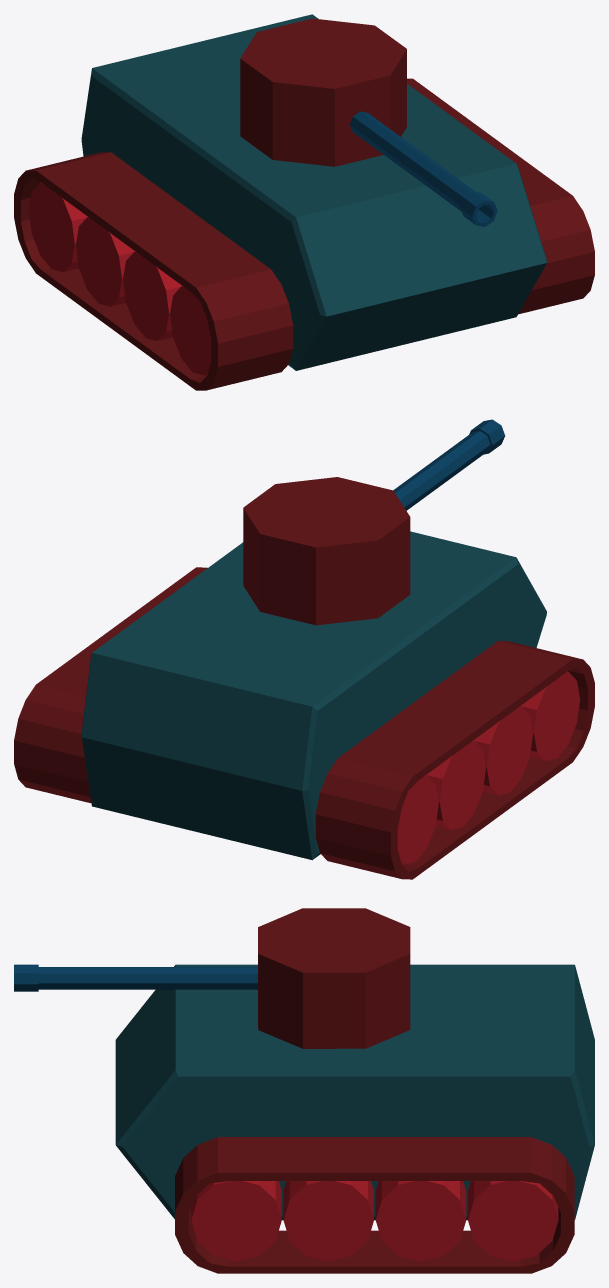
The model's file is Tank_1.obj.
3 renders of one model, top to bottom at view 1: azimuth 30°, elevation 25°; view 2: azimuth 150°, elevation 25°; view 3: azimuth 270°, elevation 25°, orthographic. The views are drawn at different scales.
Visible parts, largest first — view 1: Body, Track_L, Turret, Track_R, Gun, Wheel_L_2, Wheel_L_4, Wheel_L_1, Wheel_L_3; view 2: Body, Track_L, Turret, Track_R, Wheel_L_3, Wheel_L_4, Wheel_L_1, Gun, Wheel_L_2; view 3: Body, Track_R, Turret, Wheel_R_4_Wheel_4, Wheel_R_1_Wheel_1, Wheel_R_3_Wheel_3, Wheel_R_2_Wheel_2, Gun.
Boxes of the visible parts, box(x1,y1,x2,y2) form: Body: box(81, 14, 546, 370); Track_L: box(14, 152, 293, 390); Turret: box(240, 18, 406, 166); Track_R: box(407, 78, 594, 314); Gun: box(350, 111, 497, 226); Wheel_L_2: box(28, 182, 87, 272); Wheel_L_4: box(76, 217, 135, 306); Wheel_L_1: box(123, 251, 181, 340); Wheel_L_3: box(170, 286, 211, 375); Body: box(81, 531, 546, 860); Track_L: box(315, 641, 594, 879); Turret: box(243, 477, 410, 625); Track_R: box(14, 567, 207, 803); Wheel_L_3: box(521, 671, 579, 760); Wheel_L_4: box(426, 740, 485, 829); Wheel_L_1: box(473, 706, 532, 795); Gun: box(393, 419, 505, 510); Wheel_L_2: box(397, 775, 438, 864); Body: box(115, 964, 594, 1220); Track_R: box(175, 1137, 574, 1273); Turret: box(258, 908, 410, 1048); Wheel_R_4_Wheel_4: box(375, 1181, 466, 1261); Wheel_R_1_Wheel_1: box(283, 1181, 373, 1261); Wheel_R_3_Wheel_3: box(191, 1181, 281, 1261); Wheel_R_2_Wheel_2: box(468, 1181, 558, 1261); Gun: box(14, 964, 257, 991).
Size of the model in its own units: 2.13 by 1.34 by 2.91.
Materials: 1 (1 with a texture image).
